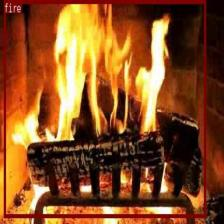fire: (3, 0, 205, 217)
